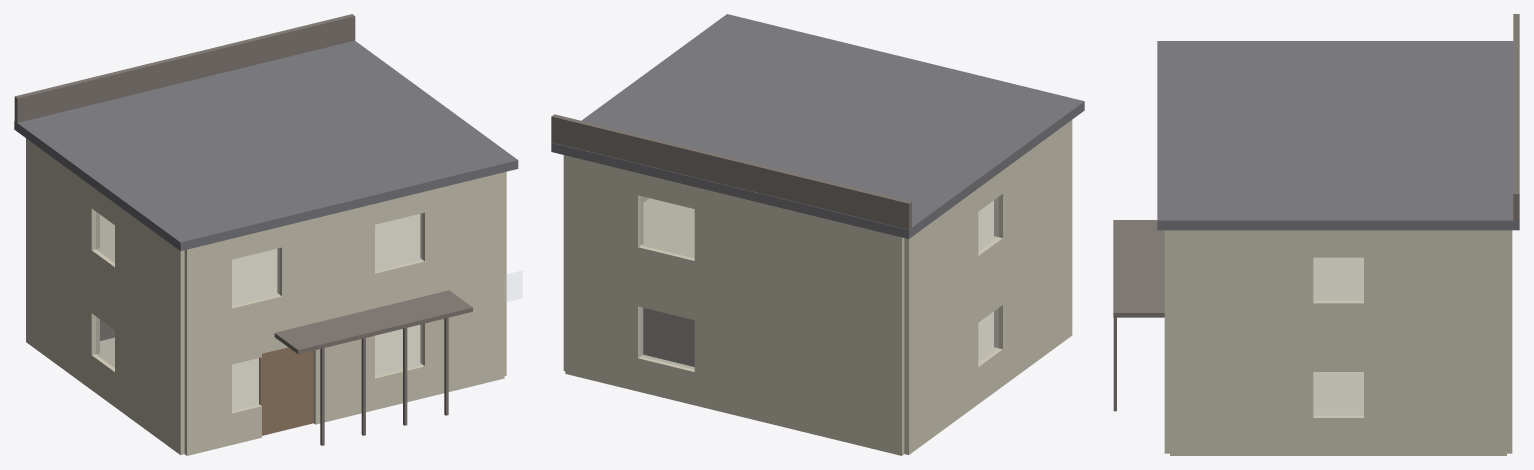
Rendered from shell_00.glb.
3 views of the same model, side by side, from view 1: azimuth 30°, elevation 25°; view 2: azimuth 150°, elevation 25°; view 3: azimuth 270°, elevation 25° (orthographic). The views are drawn at different scales.
Parts seen in each view (by area): view 1: Roof, Wall_Front, Wall_Left, RoofRail, Awning, Floor_1, Door_Front, Floor_0, Glass_Front_3, Glass_Front_4, Glass_Front_2, Glass_Front_1 (+3 smaller); view 2: Wall_Back, Roof, Wall_Left, RoofRail, Floor_1, Glass_Back_1, Glass_Back_2, Interior_Wall, Glass_Left_2, Glass_Left_1, Wall_Right, Floor_0; view 3: Wall_Right, Roof, Awning, Glass_Right_1, Glass_Right_2, Floor_0, Floor_1, RoofRail, Wall_Front, Wall_Back.
Part boxes in pixels (<box>): Roof: <box>14,40,518,251</box>; Wall_Front: <box>184,172,504,455</box>; Wall_Left: <box>26,138,184,455</box>; RoofRail: <box>14,14,355,122</box>; Awning: <box>274,290,472,354</box>; Floor_1: <box>100,214,420,303</box>; Door_Front: <box>259,347,313,435</box>; Floor_0: <box>100,324,420,408</box>; Glass_Front_3: <box>232,248,279,305</box>; Glass_Front_4: <box>375,214,422,270</box>; Glass_Front_2: <box>375,324,422,375</box>; Glass_Front_1: <box>232,358,259,410</box>; Wall_Back: <box>565,155,904,455</box>; Roof: <box>551,14,1084,238</box>; Wall_Left: <box>904,120,1072,454</box>; RoofRail: <box>551,114,911,229</box>; Floor_1: <box>643,198,993,255</box>; Glass_Back_1: <box>641,307,694,368</box>; Glass_Back_2: <box>641,196,694,257</box>; Interior_Wall: <box>643,308,694,366</box>; Glass_Left_2: <box>978,198,998,250</box>; Glass_Left_1: <box>978,309,998,361</box>; Wall_Right: <box>563,155,649,371</box>; Floor_0: <box>978,311,993,358</box>; Wall_Right: <box>1170,230,1506,455</box>; Roof: <box>1157,41,1519,230</box>; Awning: <box>1113,220,1164,317</box>; Glass_Right_1: <box>1313,372,1363,415</box>; Glass_Right_2: <box>1313,258,1363,300</box>; Floor_0: <box>1313,372,1363,413</box>; Floor_1: <box>1313,257,1363,298</box>; RoofRail: <box>1513,14,1519,220</box>; Wall_Front: <box>1164,230,1169,453</box>; Wall_Back: <box>1507,230,1512,453</box>.
Size of the model in its own units: 10.41 by 6.95 by 9.65.
